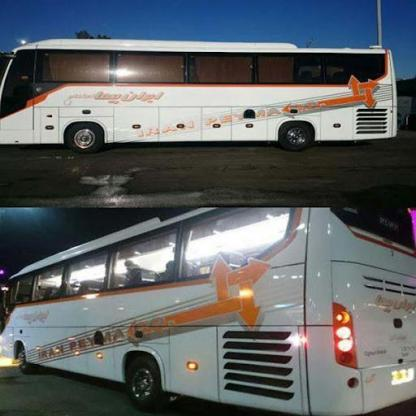Bus: (0, 203, 416, 416), (0, 35, 410, 147)
